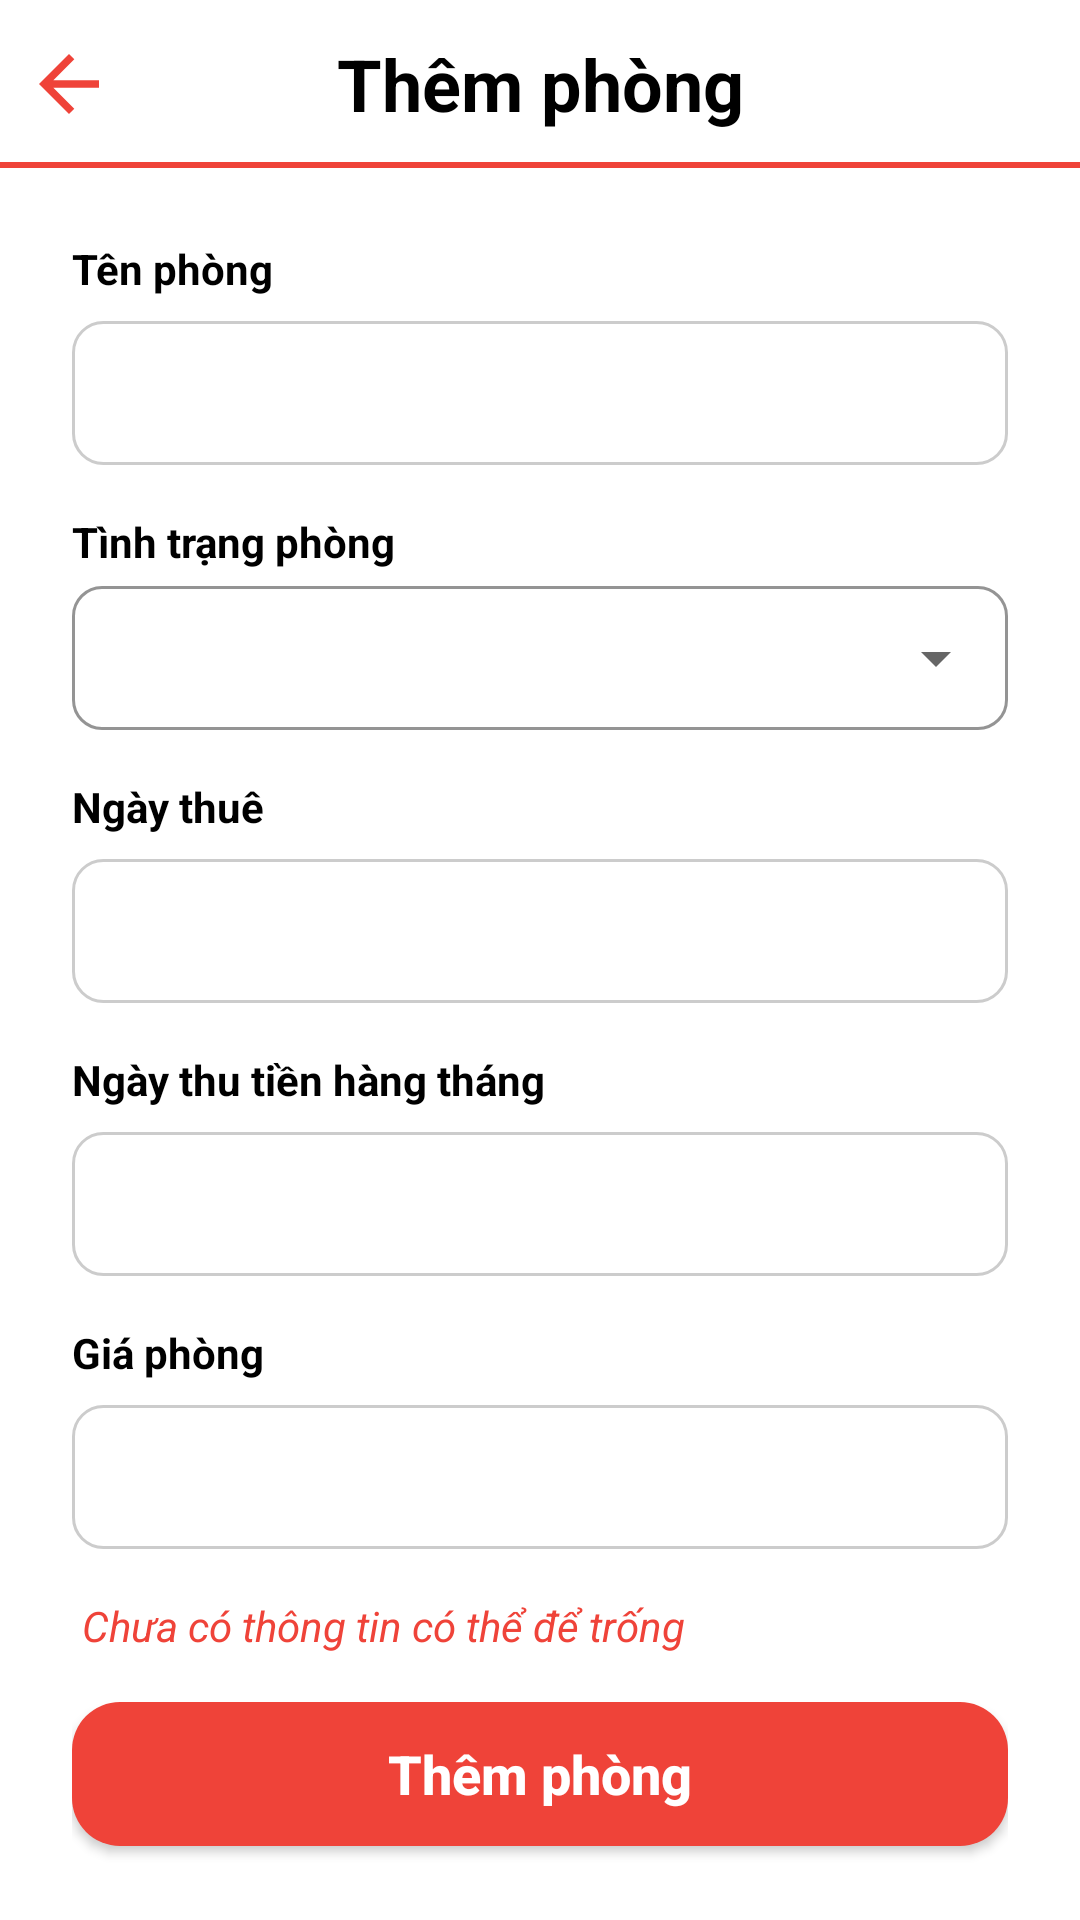

Named icons in this screenshot (1080 x 1920) and their bounding boxes, (x1, y1, x2, y2):
back: (39, 54, 99, 114)
